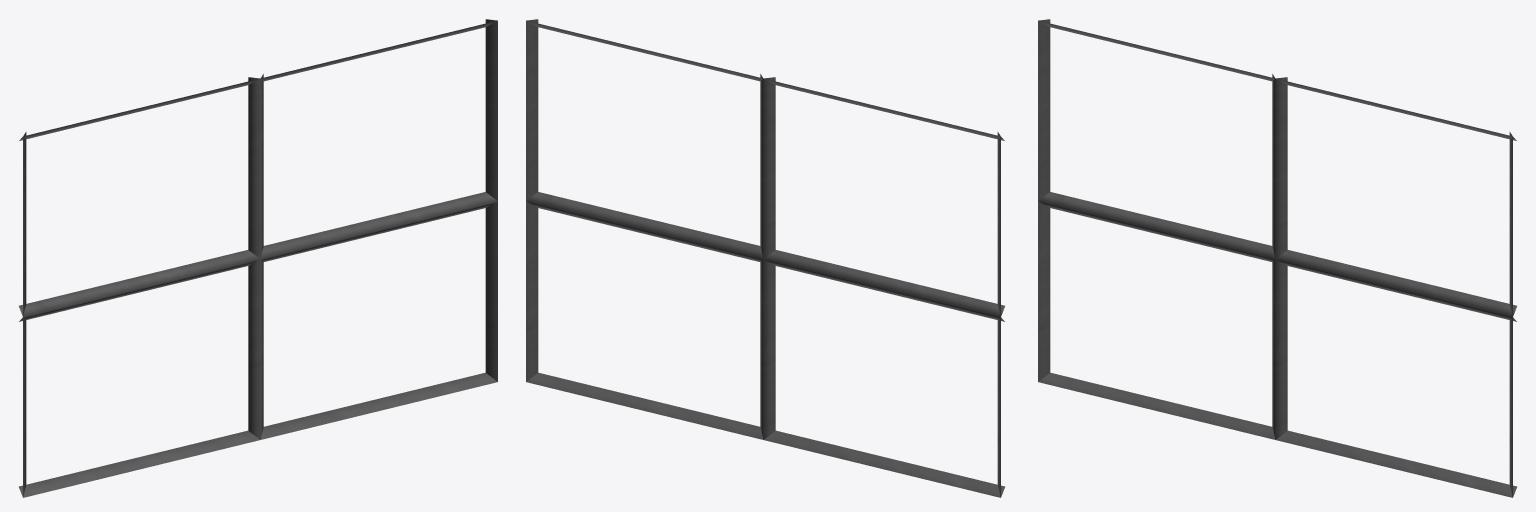
File: WinInsertTrad1x0_75Horz.gltf
The picture shows the model from 3 angles, left to right: view 1: azimuth 30°, elevation 25°; view 2: azimuth 150°, elevation 25°; view 3: azimuth 330°, elevation 25°; orthographic projection.
Parts seen in each view (by area): view 1: WinInsertTrad1x0_75HorzShape; view 2: WinInsertTrad1x0_75HorzShape; view 3: WinInsertTrad1x0_75HorzShape.
Part boxes in pixels (left/top/right/bottom): WinInsertTrad1x0_75HorzShape: left=19, top=19, right=497, bottom=497; WinInsertTrad1x0_75HorzShape: left=526, top=19, right=1004, bottom=497; WinInsertTrad1x0_75HorzShape: left=1038, top=19, right=1516, bottom=497.
Bounding box in the file's own units: 0.918 × 0.668 × 0.03.
1 material, 1 textured.
